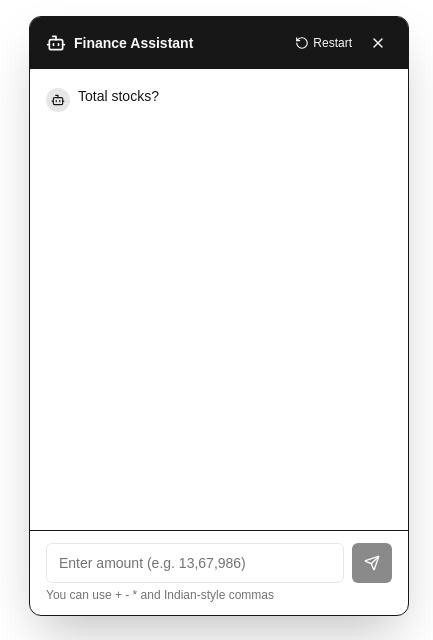
Test case: FinanceAssistantChat Input Validation › should show error for negative amounts
Expected: the text "Total stocks?" is shown, [78, 88, 159, 104]
Step 1. Type "100 - 200" into the field with placeholder "Enter amount (e.g. 13,67,986)" → (195, 563), box [46, 543, 344, 583]
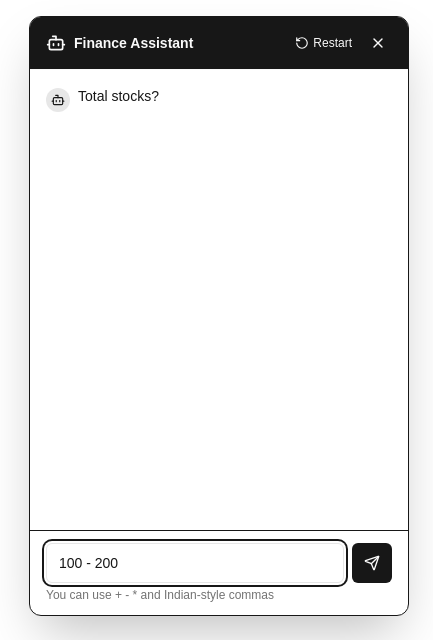
Step 2. Press Enter
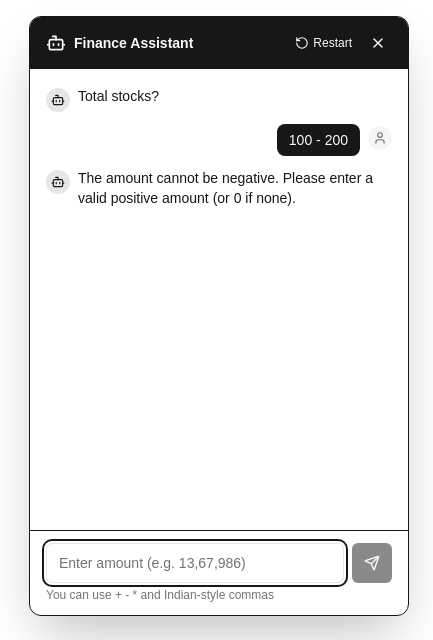
Expected: the text "cannot be negative" is shown, [78, 170, 373, 206]
